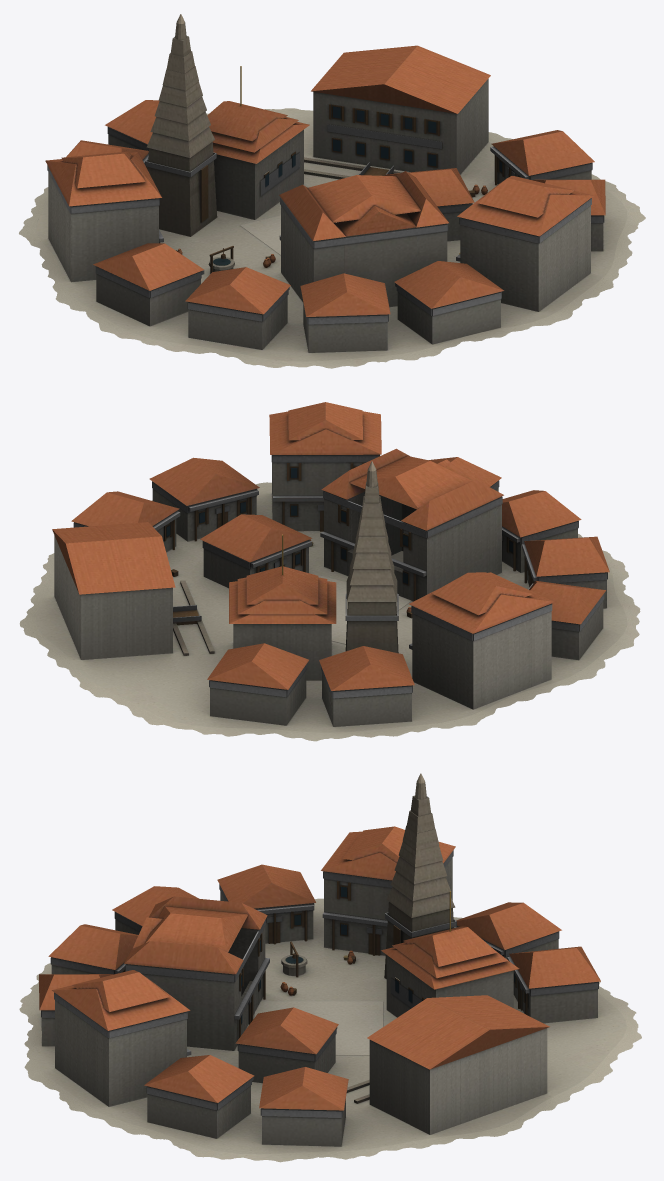
Rendered from gunpowder-town-medium-a-monsoon-e543a9ea.glb.
3 renders of one model, top to bottom at view 1: azimuth 30°, elevation 25°; view 2: azimuth 150°, elevation 25°; view 3: azimuth 270°, elevation 25°, orthographic.
Parts seen in each view (by area): view 1: LOD0; view 2: LOD0; view 3: LOD0.
Boxes of the visible parts, bbox=[...] form: LOD0: bbox=[19, 14, 645, 368]; LOD0: bbox=[19, 402, 640, 741]; LOD0: bbox=[19, 773, 641, 1162].
Size of what is drawn, in the model's own units: 5.97 by 2.19 by 5.97.
Materials: 3 (3 with a texture image).
